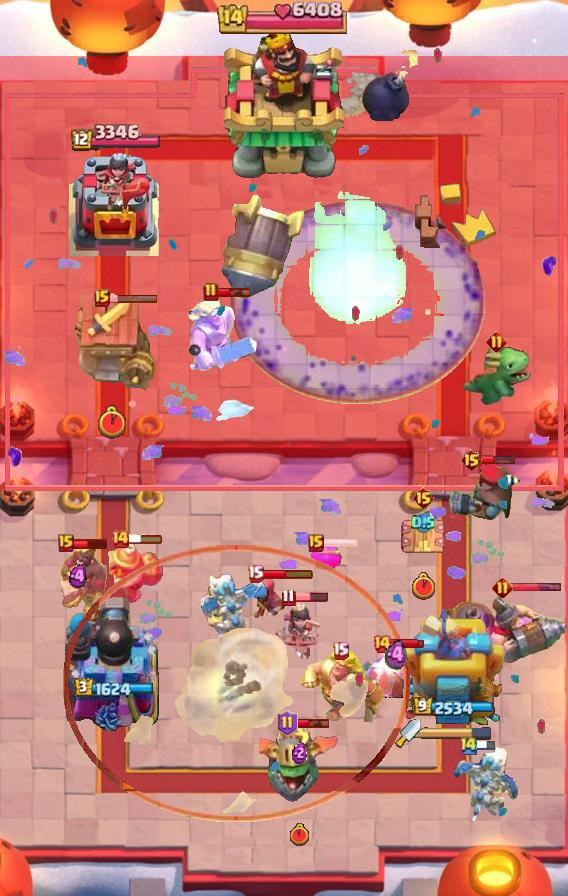baby-dragon: (361, 50, 421, 122)
bandit: (104, 540, 166, 606)
bar: (401, 601, 505, 731)
bowler: (250, 575, 286, 621)
clock: (217, 0, 351, 34)
electro-spirit: (385, 640, 407, 672), (412, 510, 437, 533), (69, 563, 87, 588), (293, 741, 307, 764)
electro-wizard: (460, 345, 531, 407)
elixir: (98, 405, 126, 439), (413, 572, 436, 600), (290, 823, 310, 846)
emote: (261, 568, 314, 580), (510, 582, 562, 594), (107, 292, 159, 303), (72, 538, 109, 551), (322, 537, 359, 549), (216, 286, 252, 298), (128, 533, 164, 545), (293, 591, 329, 603), (389, 638, 425, 650), (295, 717, 331, 729), (481, 455, 516, 466), (477, 740, 496, 751)
fisherman: (337, 71, 381, 119)
freeze: (49, 543, 107, 629)
goblin-brawler: (399, 515, 447, 559)
goblin-hut: (183, 294, 261, 376), (298, 650, 383, 722)
king-tower: (224, 29, 344, 181)
king-tower-bar: (421, 726, 493, 740)
mega-knight: (307, 189, 410, 326)
miner: (311, 540, 343, 570)
mini-pekka: (450, 743, 520, 827), (199, 569, 271, 649)
mortar-evolution: (361, 645, 431, 703)
night-witch: (258, 722, 340, 802)
phoenix-small: (446, 462, 522, 522)
queen-tower: (69, 152, 159, 256)
rocket: (229, 200, 485, 404)
royal-ghost: (63, 546, 409, 823)
selected: (68, 124, 160, 153), (74, 677, 154, 699), (414, 698, 495, 719)
skeleton-dragon: (272, 601, 322, 659)
sparky: (69, 294, 155, 392)
text: (461, 448, 484, 472), (413, 486, 436, 510), (277, 710, 298, 736), (492, 577, 513, 599), (485, 331, 506, 352), (459, 735, 479, 756), (110, 529, 130, 549), (372, 634, 392, 654), (332, 640, 349, 659), (203, 282, 219, 302), (247, 565, 264, 583), (94, 289, 110, 307), (308, 534, 324, 552), (58, 534, 74, 552), (280, 589, 295, 608)
tower-bar: (65, 593, 163, 731)
wizard: (442, 592, 568, 666)
x-bow: (221, 193, 305, 300)
